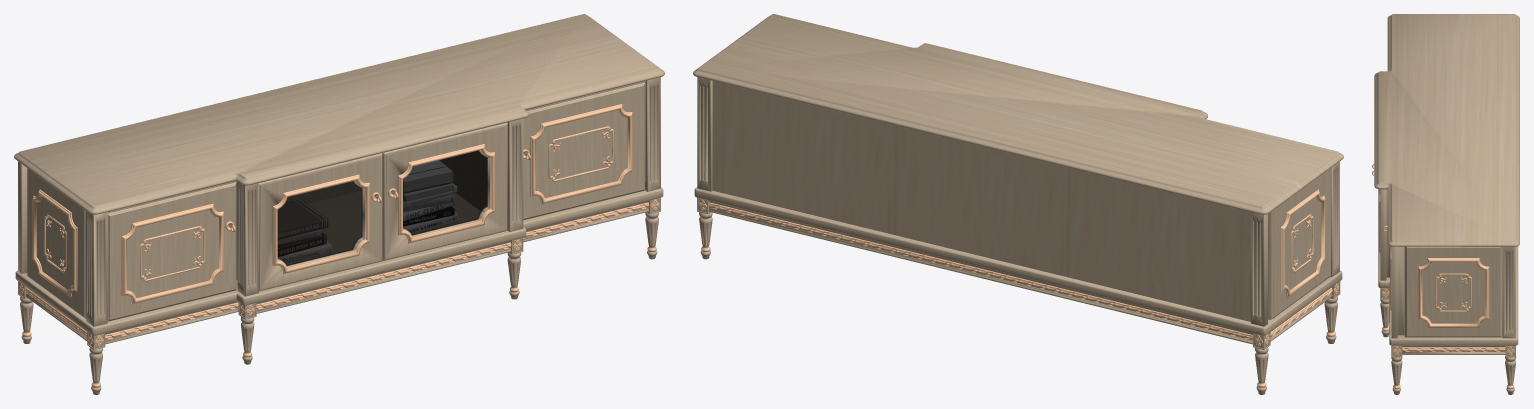
File: angelo-cappellini-tv-cabinet.glb
3 views of the same model, side by side, from view 1: azimuth 30°, elevation 25°; view 2: azimuth 150°, elevation 25°; view 3: azimuth 270°, elevation 25° (orthographic). The views are drawn at different scales.
Visible parts, largest first — view 1: TV_Cabinet3; view 2: TV_Cabinet3; view 3: TV_Cabinet3.
Part boxes in pixels (bbox=[...]): TV_Cabinet3: bbox=[14, 14, 664, 394]; TV_Cabinet3: bbox=[693, 14, 1343, 394]; TV_Cabinet3: bbox=[1372, 14, 1519, 394].
Size of the model in its own units: 2.06 by 0.6509 by 0.5602.
7 materials, 5 textured.
